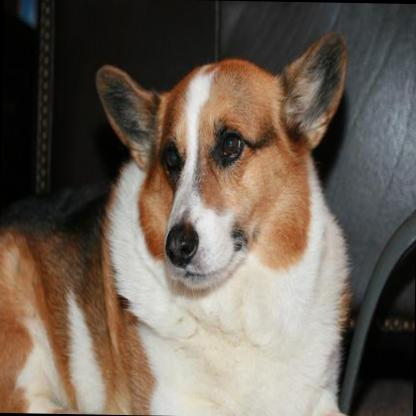Pembroke: (0, 22, 357, 416)
